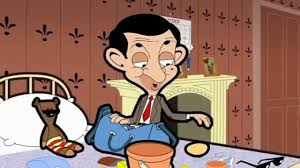mrbean: (103, 13, 214, 129)
